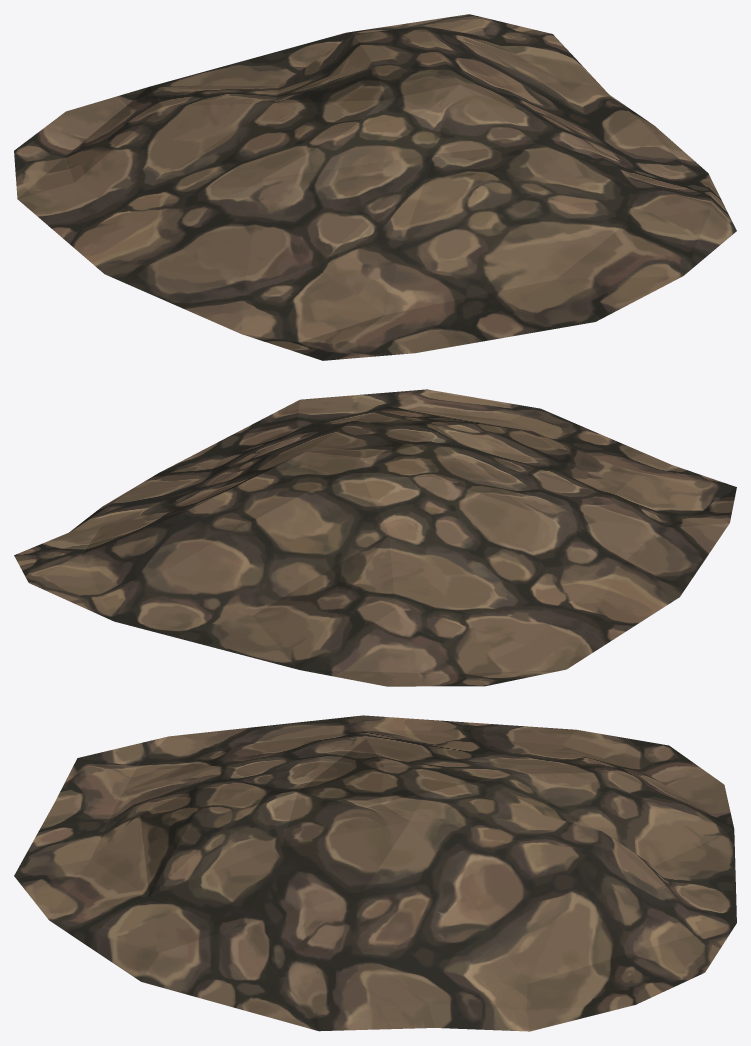
Rendered from trash-floor-2.fbx.
The picture shows the model from 3 angles, top to bottom: view 1: azimuth 30°, elevation 25°; view 2: azimuth 150°, elevation 25°; view 3: azimuth 270°, elevation 25°; orthographic projection. The views are drawn at different scales.
Visible parts, largest first — view 1: trash-floor-2; view 2: trash-floor-2; view 3: trash-floor-2.
Boxes of the visible parts, x1,y1,x2,y2 form: trash-floor-2: [14, 14, 736, 360]; trash-floor-2: [14, 389, 736, 686]; trash-floor-2: [14, 715, 736, 1031].
Size of the model in its own units: 2.01 by 0.3455 by 2.1.
